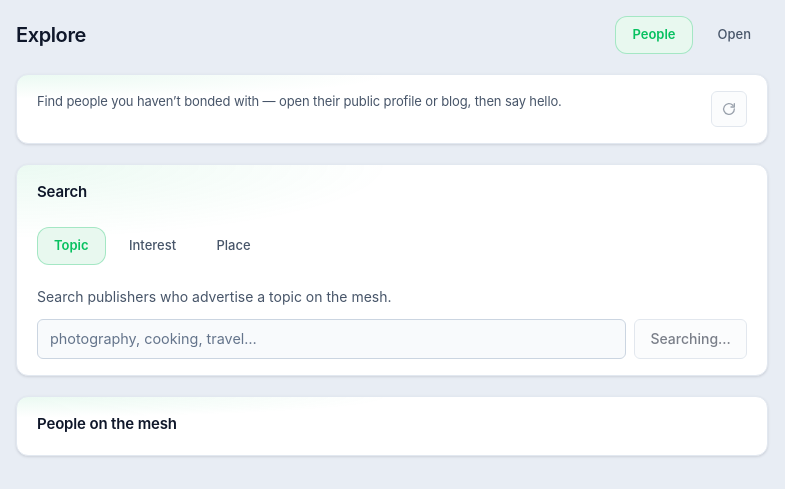
Test: BrowserView › defaults to People; Open shows the address bar
Expected: the tab with test id "browser-mode-people" is shown, [615,16,692,54]
Click the tab with test id "browser-mode-open": (734, 35) [700,16,768,54]
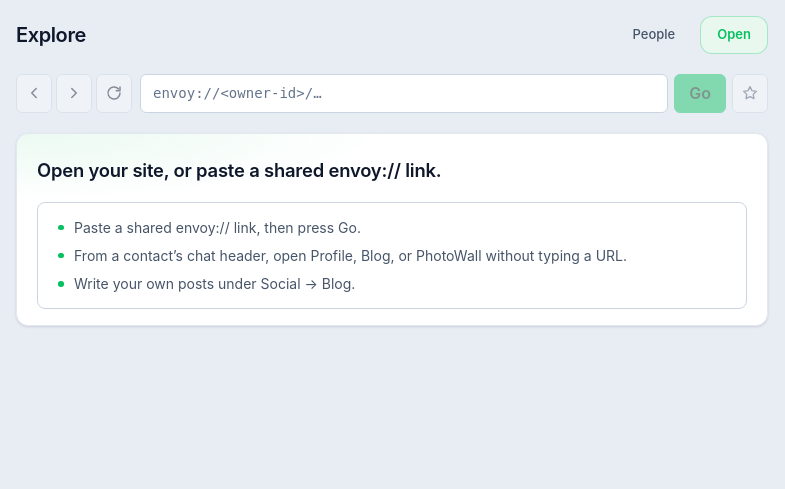
Expected: the field with test id "browser-address-bar" is shown, [140,74,668,112]
Expected: the element with test id "browser-idle" is shown, [37,158,747,309]
